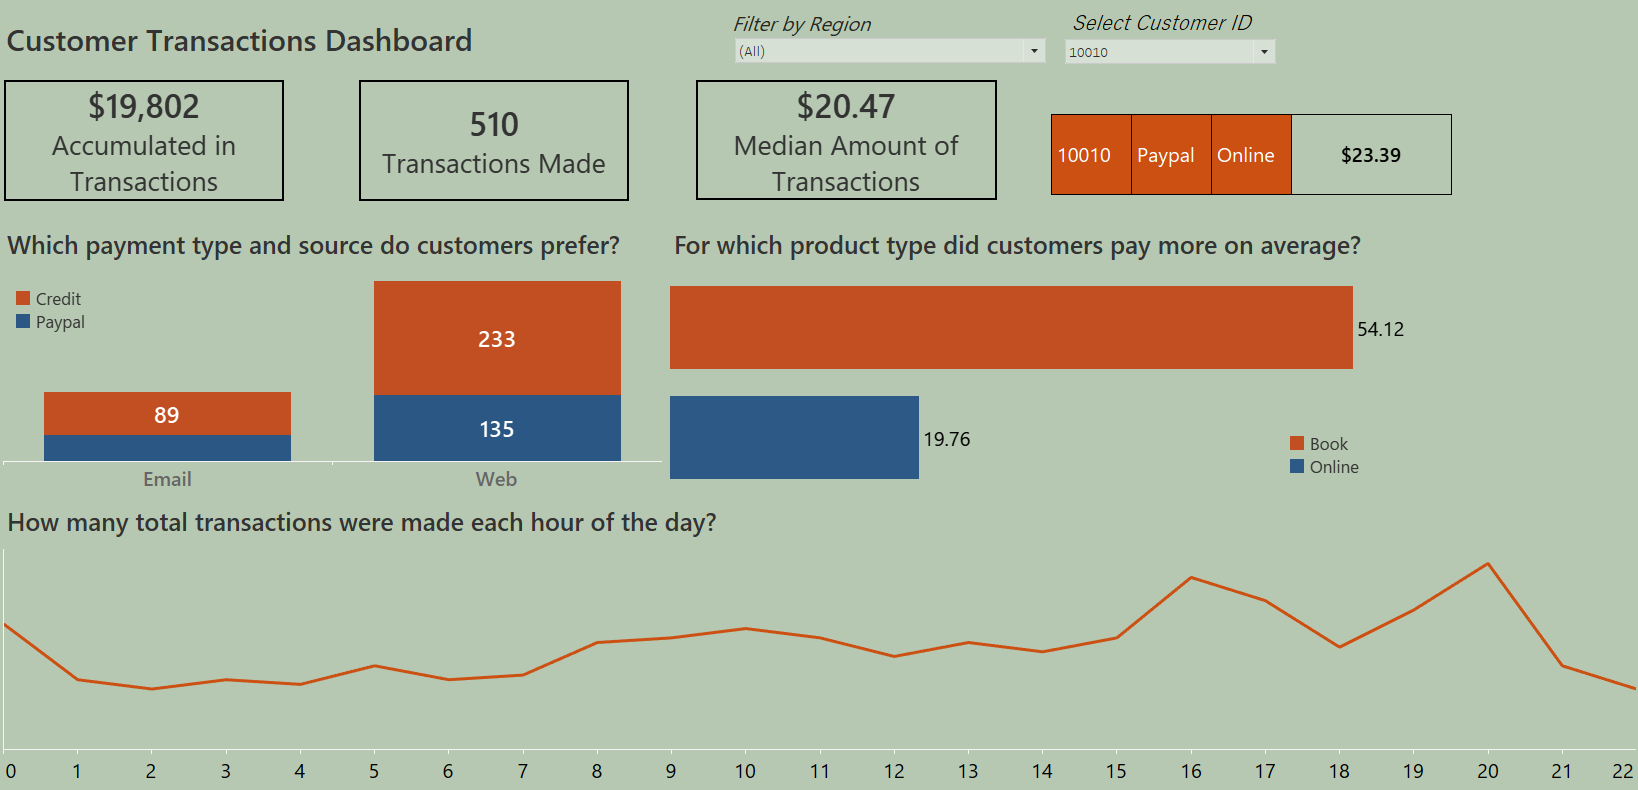

The dashboard page shown, as its layout file describes it:
{"tool":"tableau","page":{"name":"Customer Transactions Dashboard","canvas":[1657,801],"ordinal":0},"visuals":[{"type":"title","box":[8,8,1641,73]},{"type":"filter","title":"Home KPI 2","param":"[federated.16j2a9i0thwbus16ch8pn1kp9ipu].[none:Region:nk]","box":[741,15,317,55]},{"type":"text","box":[1077,17,190,25]},{"type":"filter","title":"ID Select Tab","param":"[federated.16j2a9i0thwbus16ch8pn1kp9ipu].[none:Calculation_1150669726386372609:n","box":[1071,42,217,95]},{"type":"worksheet","title":"Home KPI 2","mark":"Automatic","box":[8,81,355,144]},{"type":"worksheet","title":"Home KPI 1","mark":"Automatic","box":[363,81,337,144]},{"type":"worksheet","title":"Home KPI 3","mark":"Automatic","box":[700,81,351,144]},{"type":"worksheet","title":"ID Select Tab","mark":"Automatic","rows":["Cust ID","Payment","Product"],"box":[1060,120,467,209]},{"type":"worksheet","title":"Amount by Method and Platform","mark":"Automatic","rows":["Cust ID"],"cols":["Source"],"box":[8,225,667,277]},{"type":"worksheet","title":"Average Transaction Amount by Approach","mark":"Automatic","rows":["Product"],"cols":["Amount"],"box":[675,225,781,277]},{"type":"legend","title":"Amount by Method and Platform","param":"[federated.16j2a9i0thwbus16ch8pn1kp9ipu].[none:Payment:nk]","box":[21,293,103,47]},{"type":"legend","title":"Average Transaction Amount by Approach","param":"[federated.16j2a9i0thwbus16ch8pn1kp9ipu].[none:Product:nk]","box":[1295,438,141,54]},{"type":"worksheet","title":"Cumulative Amount per Hour","mark":"Automatic","rows":["Cust ID"],"cols":["Calculation_183521706376200192"],"box":[8,502,1641,291]}]}

Visuals, with their boxes in screenshot pixels (x1, y1, x2, y2), scaled from the page's 1657x801 canvas onto the 1638x790 screenshot:
title: box(8, 8, 1630, 80)
"Home KPI 2" filter: box(733, 15, 1046, 69)
text: box(1065, 17, 1252, 41)
"ID Select Tab" filter: box(1059, 41, 1273, 135)
"Home KPI 2" worksheet: box(8, 80, 359, 222)
"Home KPI 1" worksheet: box(359, 80, 692, 222)
"Home KPI 3" worksheet: box(692, 80, 1039, 222)
"ID Select Tab" worksheet: box(1048, 118, 1509, 324)
"Amount by Method and Platform" worksheet: box(8, 222, 667, 495)
"Average Transaction Amount by Approach" worksheet: box(667, 222, 1439, 495)
"Amount by Method and Platform" legend: box(21, 289, 123, 335)
"Average Transaction Amount by Approach" legend: box(1280, 432, 1420, 485)
"Cumulative Amount per Hour" worksheet: box(8, 495, 1630, 782)
